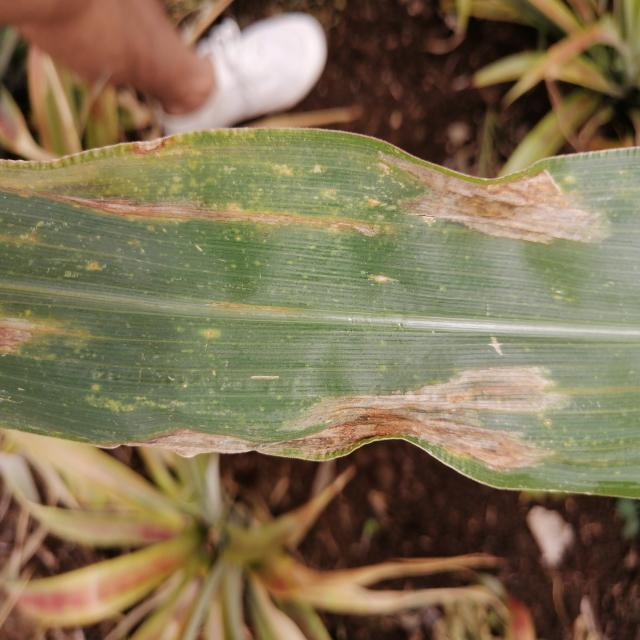Corn_Leaf_Blight: (15, 113, 640, 498)
